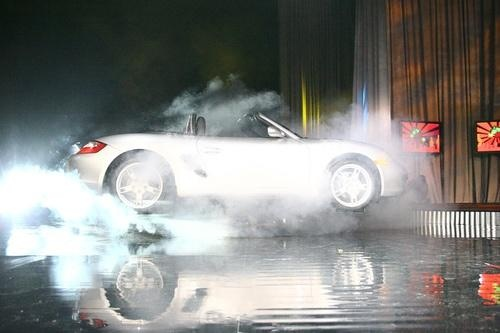car: (68, 114, 409, 213)
